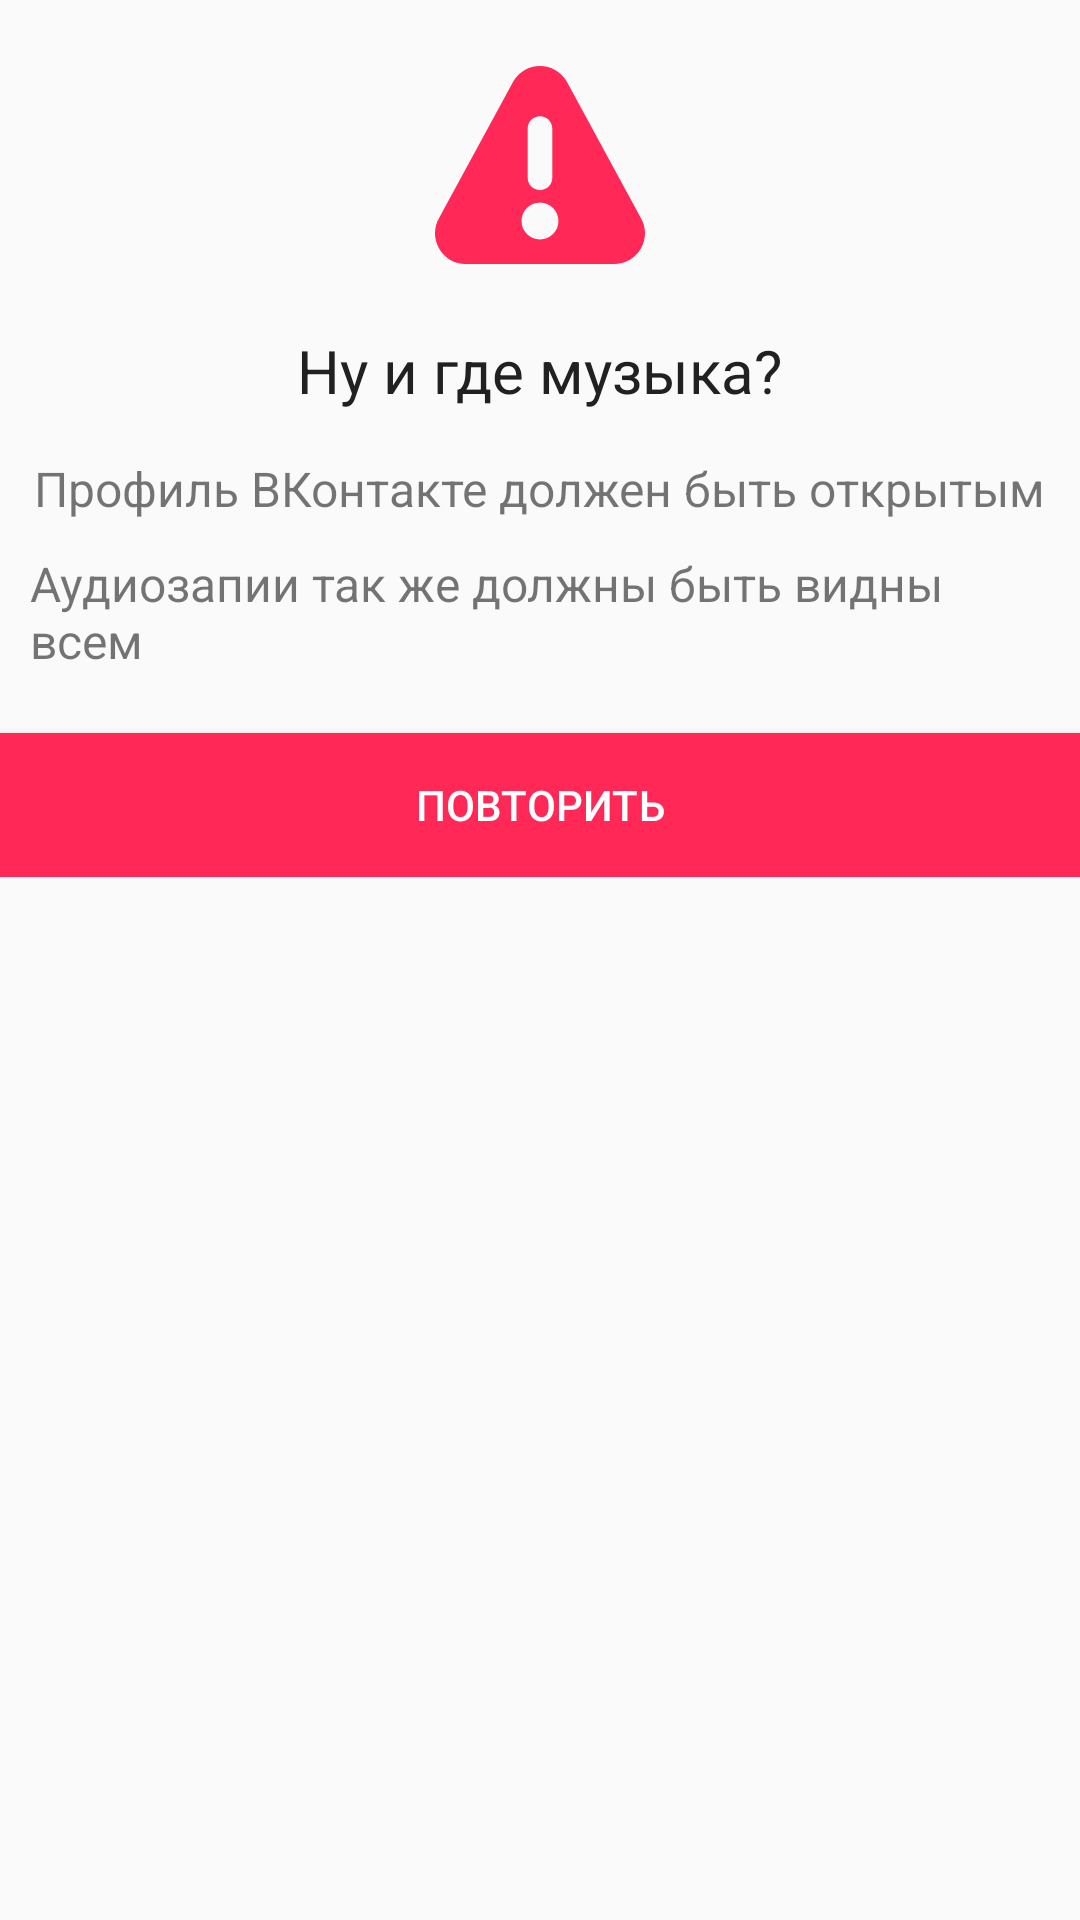

Where to tap for icons on this 1080 x 1920 app screen, as [x,y]:
warning: [540,165]
